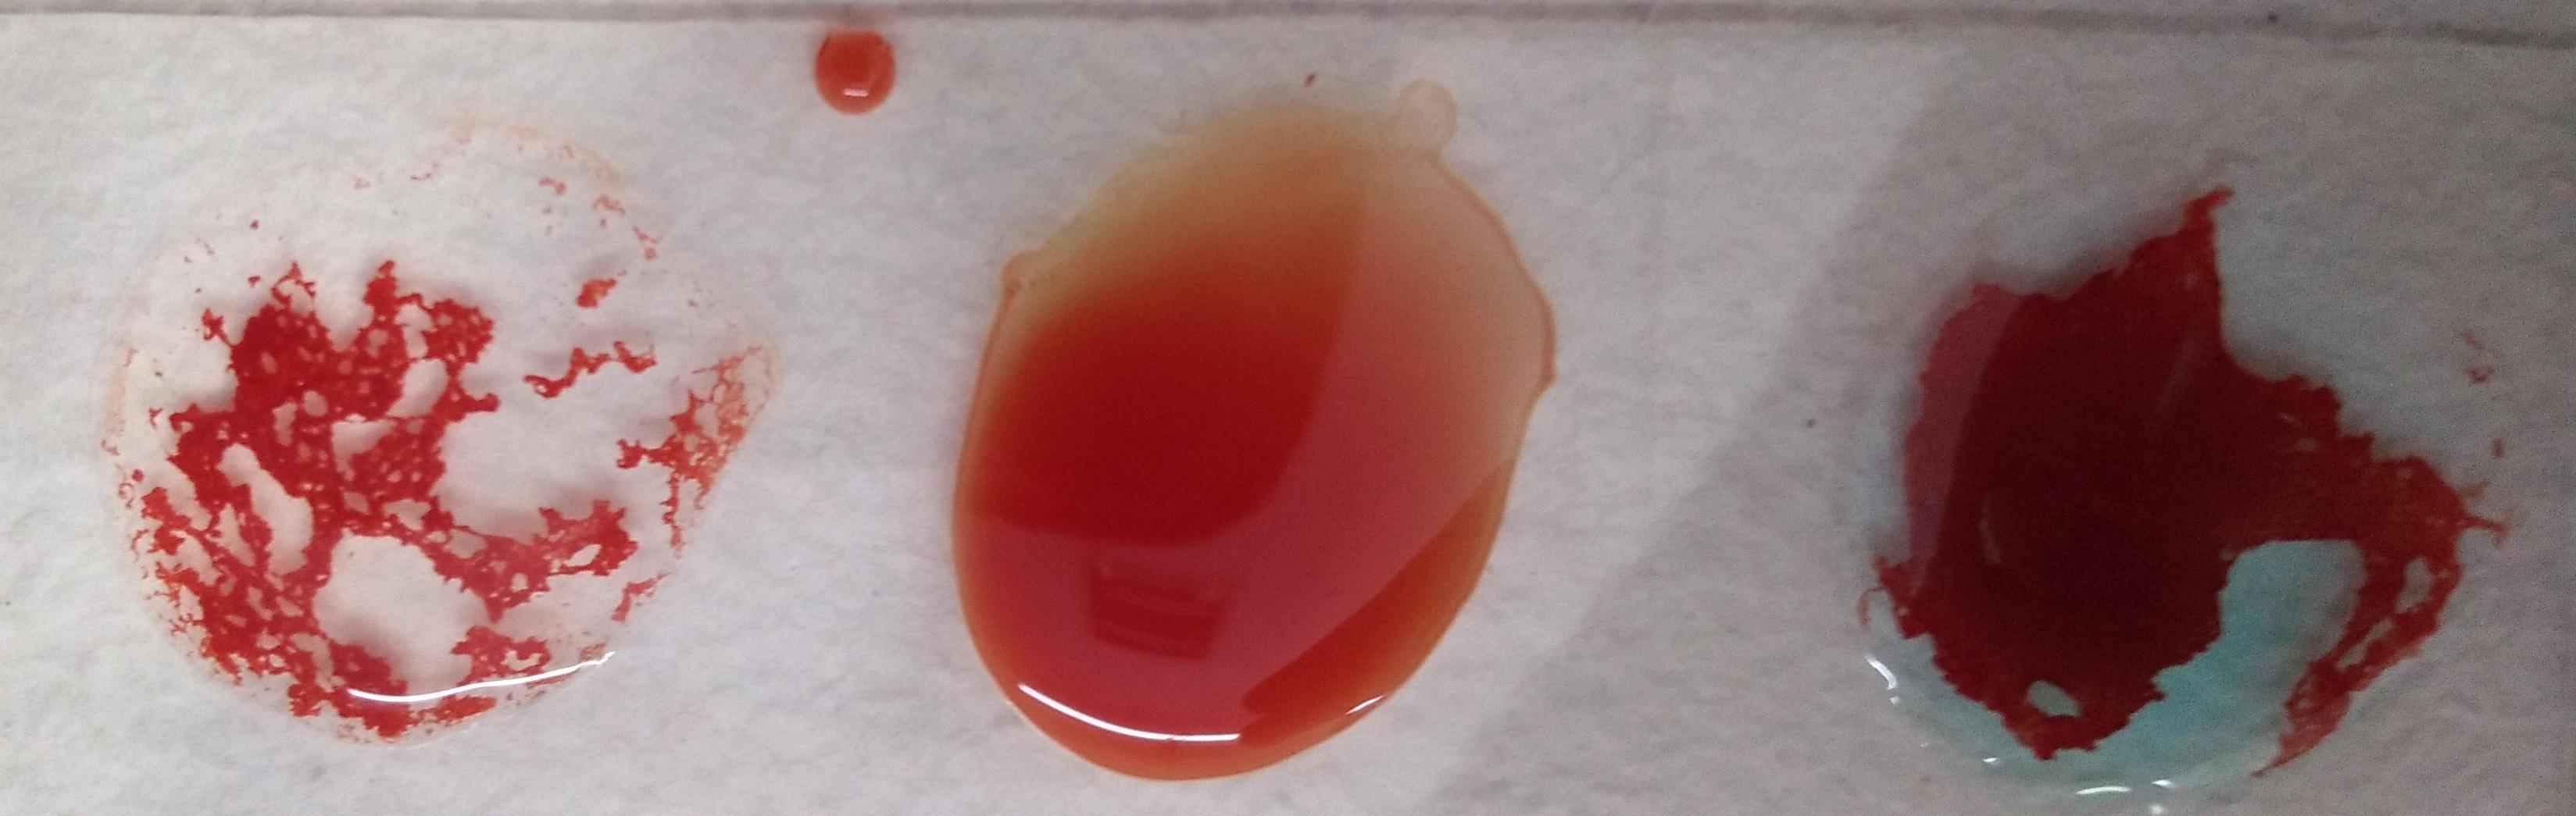A: (1840, 199, 2515, 800)
D: (100, 100, 711, 747)
